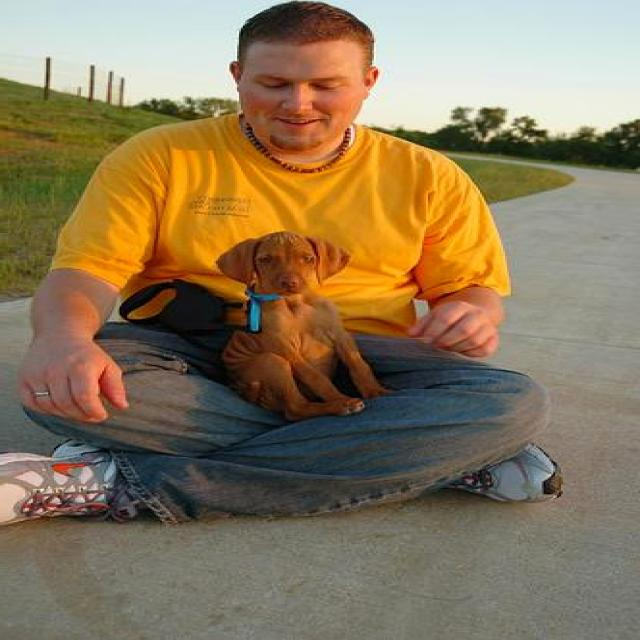vizsla: (218, 229, 401, 423)
